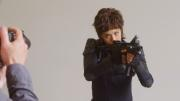gun: (98, 39, 142, 77)
